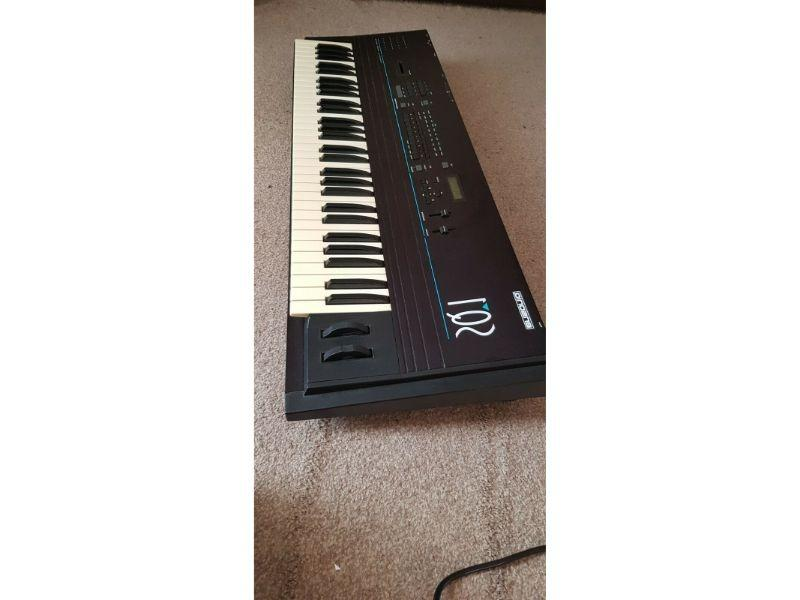synthesizer: (290, 28, 532, 426)
